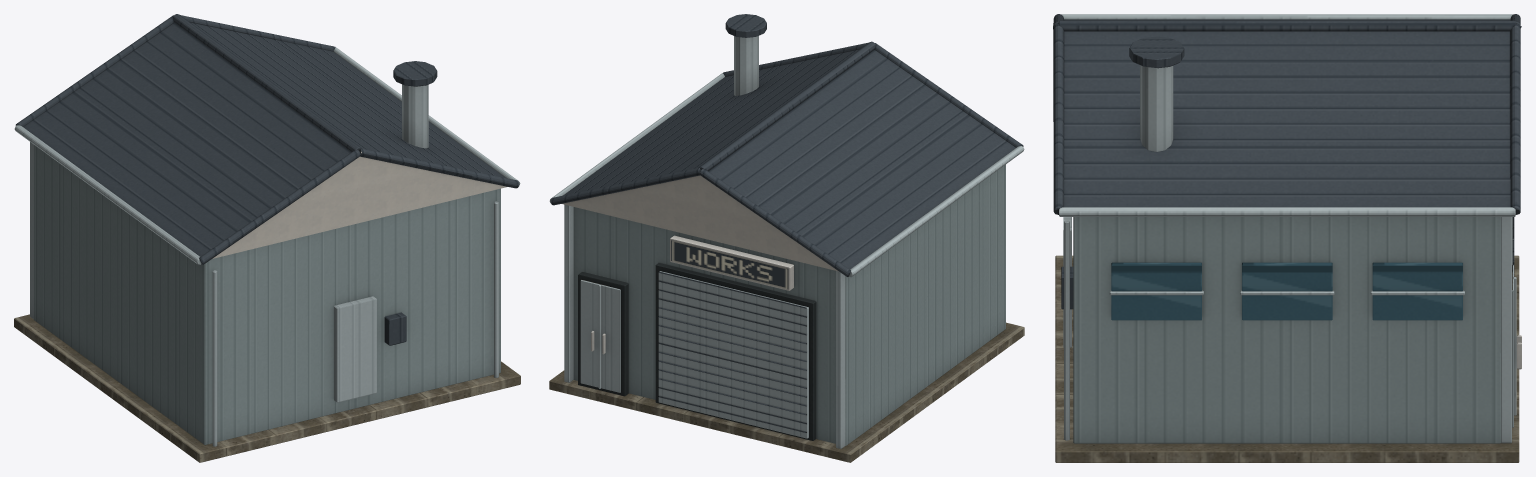
Rendered from factory_001.obj.
3 renders of one model, left to right at view 1: azimuth 30°, elevation 25°; view 2: azimuth 150°, elevation 25°; view 3: azimuth 270°, elevation 25°, orthographic. The views are drawn at different scales.
Visible parts, largest first — view 1: factory_001; view 2: factory_001; view 3: factory_001.
Part boxes in pixels (box(x1,y1,x2,y2)): factory_001: box(14, 14, 520, 462); factory_001: box(549, 14, 1024, 462); factory_001: box(1053, 14, 1521, 462).
Size of the model in its own units: 6.43 by 5.72 by 6.47.
Materials: 1 (1 with a texture image).
